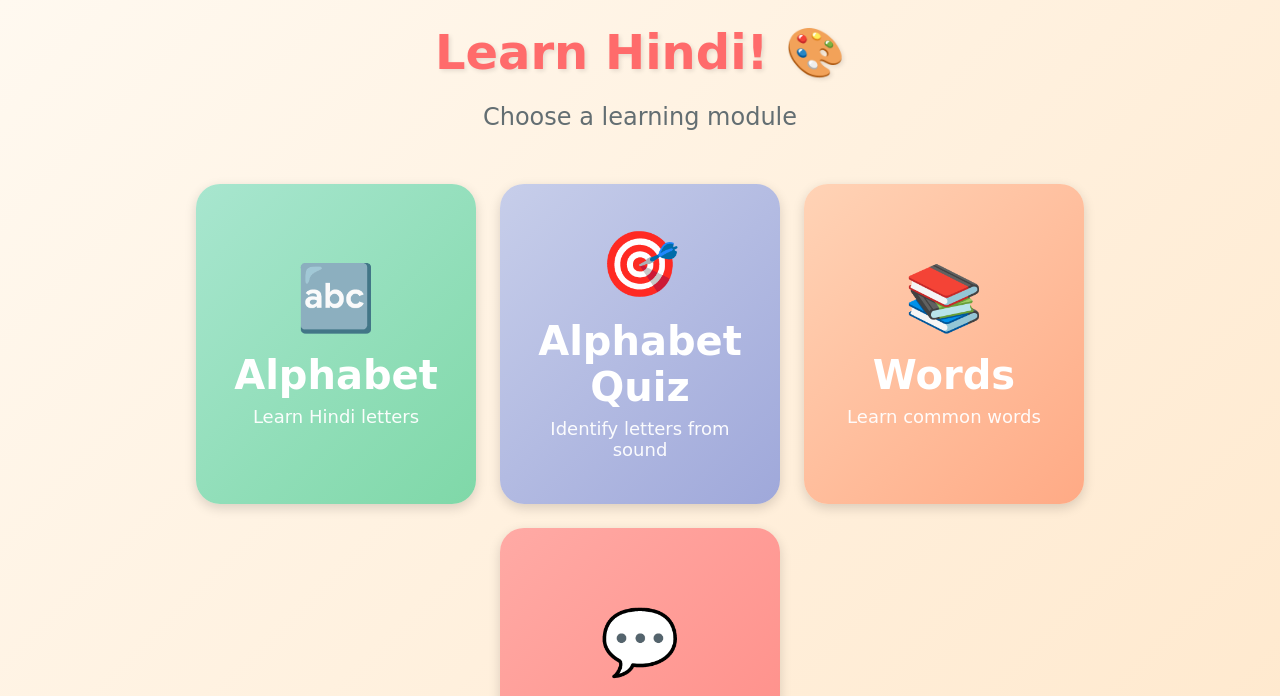
Offline Functionality and Asset Loading › Application Flow › should navigate to words module
Click the button with aria-label "Learn Hindi Words". click: click(944, 298)
box: [804, 184, 1084, 504]
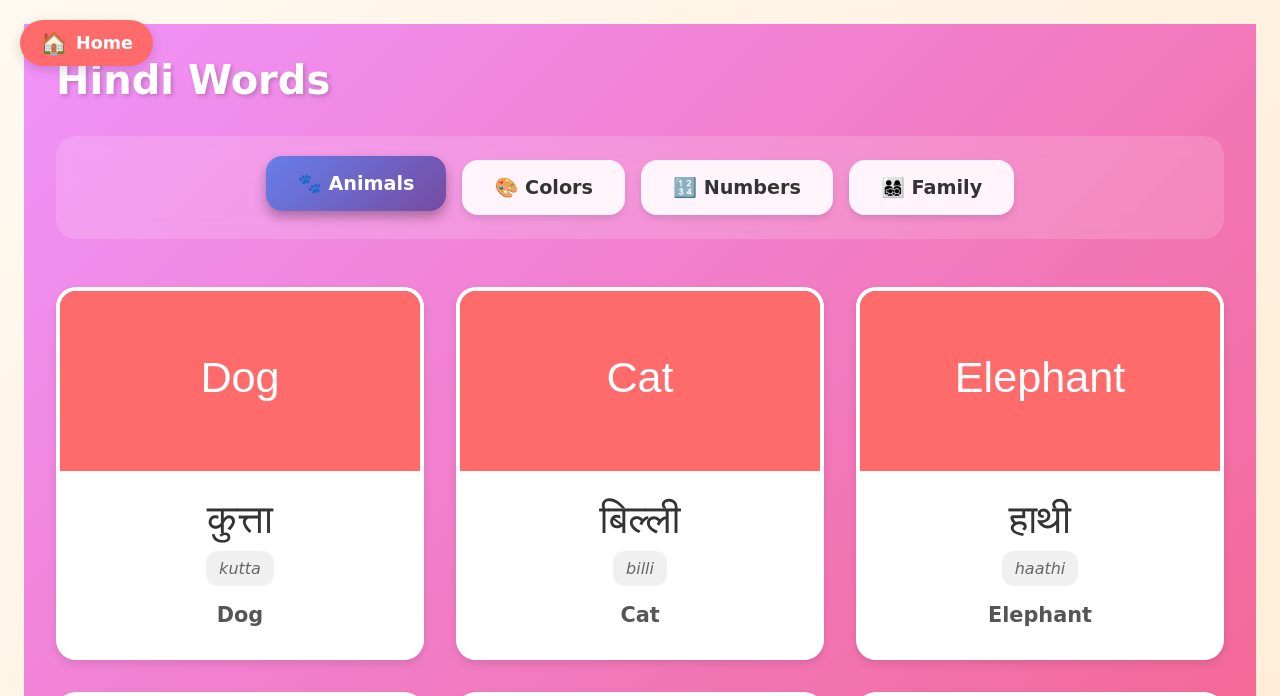
Now the button "🐾 Animals" is shown, box [266, 156, 446, 211]
